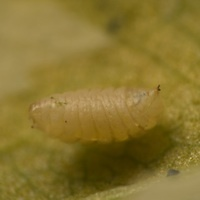insect: (29, 85, 162, 142)
